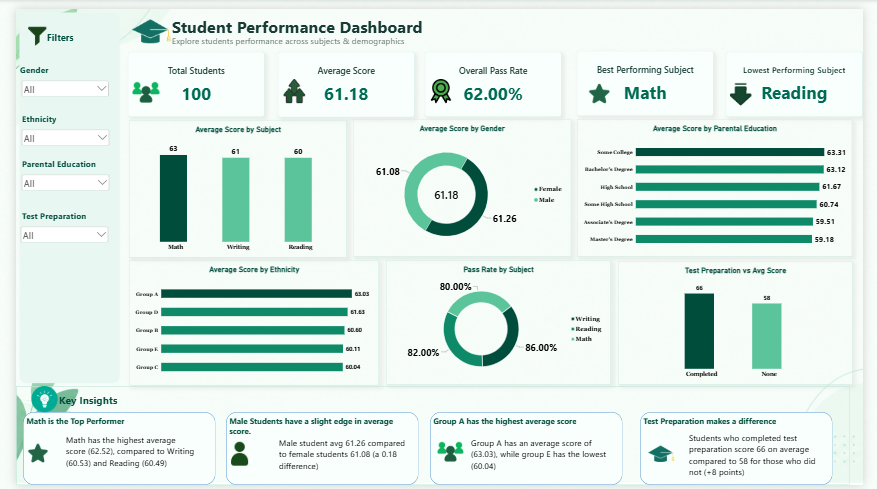

Layout of this report page (visuals, bound fields, positions):
{"tool":"powerbi","page":{"name":"Page 1","canvas":[2419,1360],"ordinal":0},"visuals":[{"type":"shape","box":[0,0,305.6,1077.8],"z":0},{"type":"shape","box":[444.9,11.1,756.3,75.6],"z":1000},{"type":"shape","box":[444.9,71.2,756.3,35.6],"z":2000},{"type":"image","box":[322.6,0,122.3,126.8],"z":3000},{"type":"cardVisual","title":"Total Students","fields":{"Data":["Sheet1.Total Students"]},"box":[320.3,122.3,390,185],"z":4000},{"type":"image","box":[320.3,200.2,102.3,86.8],"z":5000},{"type":"cardVisual","title":"Total Students","fields":{"Data":["Sheet1.Average Score"]},"box":[747.7,121.6,390,186.5],"z":6000},{"type":"image","box":[748.6,200,93.4,69],"z":7000},{"type":"cardVisual","title":"Total Students","fields":{"Data":["Sheet1.Overall Pass Rate"]},"box":[1167.6,121.6,390,185],"z":8000},{"type":"image","box":[1167.6,200,91.2,69],"z":9000},{"type":"cardVisual","title":"Total Students","fields":{"Data":["Sheet1.Best Performing Subject"]},"box":[1602.4,119.6,390,185],"z":10000},{"type":"image","box":[1617.3,199.7,102.3,86.8],"z":11000},{"type":"cardVisual","title":"Total Students","fields":{"Data":["Sheet1.Lowest Performing Subject"]},"box":[2029,121.6,390,185],"z":12000},{"type":"image","box":[2029.7,208.1,83.8,70.3],"z":13000},{"type":"clusteredColumnChart","title":"Average Score by Subject","fields":{"Category":["Subjects.Subject"],"Y":["Subjects.Average Score by Subject"]},"box":[322.2,316.7,622.2,393],"z":14000},{"type":"donutChart","title":"Average Score by Gender","fields":{"Category":["Sheet1.Gender"],"Y":["Sheet1.Average Score"]},"box":[962.2,313.5,623,393],"z":15000},{"type":"clusteredBarChart","title":"Average Score by Parental Education","fields":{"Category":["Sheet1.Parental Education"],"Y":["Sheet1.Average Score"]},"box":[1602.7,313.5,786.5,393],"z":16000},{"type":"clusteredBarChart","title":"Average Score by Ethnicity","fields":{"Category":["Sheet1.Ethnicity"],"Y":["Sheet1.Average Score"]},"box":[322.2,716.7,713.9,358],"z":17000},{"type":"donutChart","title":"Pass Rate by Subject","fields":{"Category":["Subjects.Subject"],"Y":["Sheet1.Pass Rate by Subject"]},"box":[1058.3,716.7,641.7,355.6],"z":18000},{"type":"clusteredColumnChart","title":"Test Preparation vs Avg Score","fields":{"Category":["Sheet1.Test Preparation"],"Y":["Sheet1.Average Score"]},"box":[1718.9,718.9,670.3,353],"z":19000},{"type":"image","box":[35.6,48.9,53.4,57.8],"z":20000},{"type":"shape","box":[89,48.9,180.2,66.7],"z":21000},{"type":"slicer","fields":{"Values":["Sheet1.Gender"]},"box":[11.1,200.2,258,48.9],"z":22000},{"type":"shape","box":[11.1,144.6,242.5,55.6],"z":23000},{"type":"shape","box":[17.8,284.7,242.5,55.6],"z":24000},{"type":"slicer","fields":{"Values":["Sheet1.Ethnicity"]},"box":[11.1,340.3,260.3,48.9],"z":25000},{"type":"slicer","fields":{"Values":["Sheet1.Parental Education"]},"box":[11.1,469.4,260.3,48.9],"z":26000},{"type":"slicer","fields":{"Values":["Sheet1.Test Preparation"]},"box":[8.9,618.4,260.3,48.9],"z":27000},{"type":"shape","box":[17.8,413.8,242.5,55.6],"z":28000},{"type":"shape","box":[17.8,562.8,242.5,55.6],"z":29000},{"type":"shape","box":[0,1077.8,2383.3,283.3],"z":30000},{"type":"shape","box":[19.4,1152.8,550,208.3],"z":31000},{"type":"image","box":[19.4,1227.8,89.2,83.8],"z":32000},{"type":"textbox","box":[141.7,1213.9,375,130.6],"z":33000},{"type":"shape","box":[600,1152.8,550,208.3],"z":34000},{"type":"image","box":[600,1227.8,77.8,83.3],"z":35000},{"type":"textbox","box":[750,1222.2,363.9,138.9],"z":36000},{"type":"shape","box":[1783.3,1152.8,550,208.3],"z":39001},{"type":"image","box":[1797.2,1227.8,89.2,83.8],"z":39002},{"type":"textbox","box":[1922.2,1208.3,386.1,136.1],"z":39003},{"type":"shape","box":[1183.3,1152.8,550,208.3],"z":39004},{"type":"image","box":[1183.3,1227.8,116.7,83.3],"z":39005},{"type":"textbox","box":[1300,1222.2,419.4,138.9],"z":39006},{"type":"image","box":[19.4,1077.8,122.2,75],"z":39007},{"type":"shape","box":[122.2,1077.8,300,75],"z":39008}]}

Visuals, with their boxes in screenshot pixels (x1, y1, x2, y2), scaled from the page's 2419x1360 canvas onto the 877x489 screenshot:
shape: crop(0, 0, 111, 388)
shape: crop(161, 4, 435, 31)
shape: crop(161, 26, 435, 38)
image: crop(117, 0, 161, 46)
"Total Students" cardVisual: crop(116, 44, 258, 110)
image: crop(116, 72, 153, 103)
"Total Students" cardVisual: crop(271, 44, 412, 111)
image: crop(271, 72, 305, 97)
"Total Students" cardVisual: crop(423, 44, 565, 110)
image: crop(423, 72, 456, 97)
"Total Students" cardVisual: crop(581, 43, 722, 110)
image: crop(586, 72, 623, 103)
"Total Students" cardVisual: crop(736, 44, 876, 110)
image: crop(736, 75, 766, 100)
"Average Score by Subject" clusteredColumnChart: crop(117, 114, 342, 255)
"Average Score by Gender" donutChart: crop(349, 113, 575, 254)
"Average Score by Parental Education" clusteredBarChart: crop(581, 113, 866, 254)
"Average Score by Ethnicity" clusteredBarChart: crop(117, 258, 376, 386)
"Pass Rate by Subject" donutChart: crop(384, 258, 616, 386)
"Test Preparation vs Avg Score" clusteredColumnChart: crop(623, 258, 866, 385)
image: crop(13, 18, 32, 38)
shape: crop(32, 18, 98, 42)
slicer - Sheet1.Gender: crop(4, 72, 98, 90)
shape: crop(4, 52, 92, 72)
shape: crop(6, 102, 94, 122)
slicer - Sheet1.Ethnicity: crop(4, 122, 98, 140)
slicer - Sheet1.Parental Education: crop(4, 169, 98, 186)
slicer - Sheet1.Test Preparation: crop(3, 222, 98, 240)
shape: crop(6, 149, 94, 169)
shape: crop(6, 202, 94, 222)
shape: crop(0, 388, 864, 488)
shape: crop(7, 414, 206, 488)
image: crop(7, 441, 39, 472)
textbox: crop(51, 436, 187, 483)
shape: crop(218, 414, 417, 488)
image: crop(218, 441, 246, 471)
textbox: crop(272, 439, 404, 488)
shape: crop(647, 414, 846, 488)
image: crop(652, 441, 684, 472)
textbox: crop(697, 434, 837, 483)
shape: crop(429, 414, 628, 488)
image: crop(429, 441, 471, 471)
textbox: crop(471, 439, 623, 488)
image: crop(7, 388, 51, 414)
shape: crop(44, 388, 153, 414)
